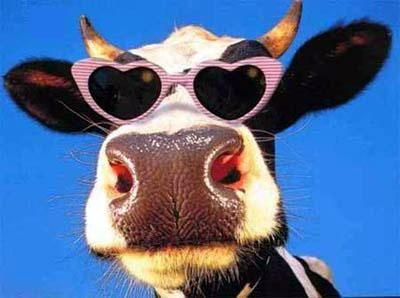cow: (6, 6, 389, 266)
